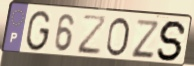6: (53, 13, 77, 54)
G: (24, 10, 53, 54)
O: (104, 16, 131, 58)
S: (155, 19, 188, 63)
Z: (77, 14, 109, 57), (131, 17, 160, 59)
